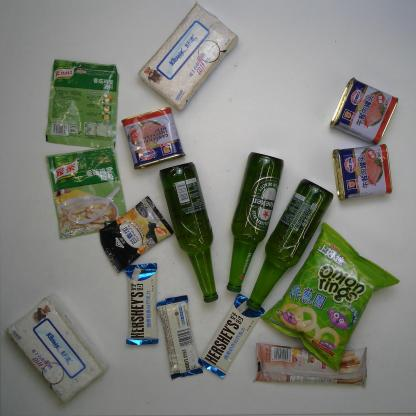Alcohol: (245, 176, 334, 312), (158, 160, 220, 304), (226, 151, 286, 293)
Canned Food: (328, 76, 399, 146), (120, 107, 186, 170), (331, 143, 393, 203)
Chocolate: (197, 293, 266, 380), (156, 294, 204, 381), (124, 262, 160, 346)
Dessert: (253, 341, 369, 389)
Instant Drink: (99, 195, 174, 274)
Puffed Food: (260, 220, 401, 372)
Seasoner: (46, 145, 128, 241), (44, 58, 120, 150)
Tissue: (4, 291, 110, 406), (137, 0, 239, 111)
